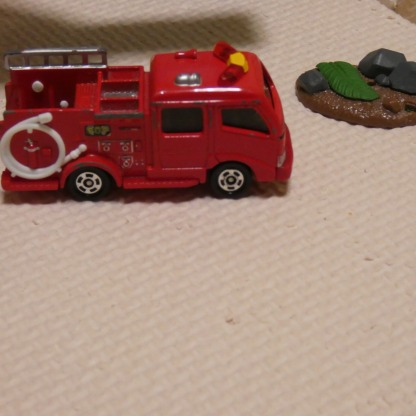car: (0, 45, 292, 202)
